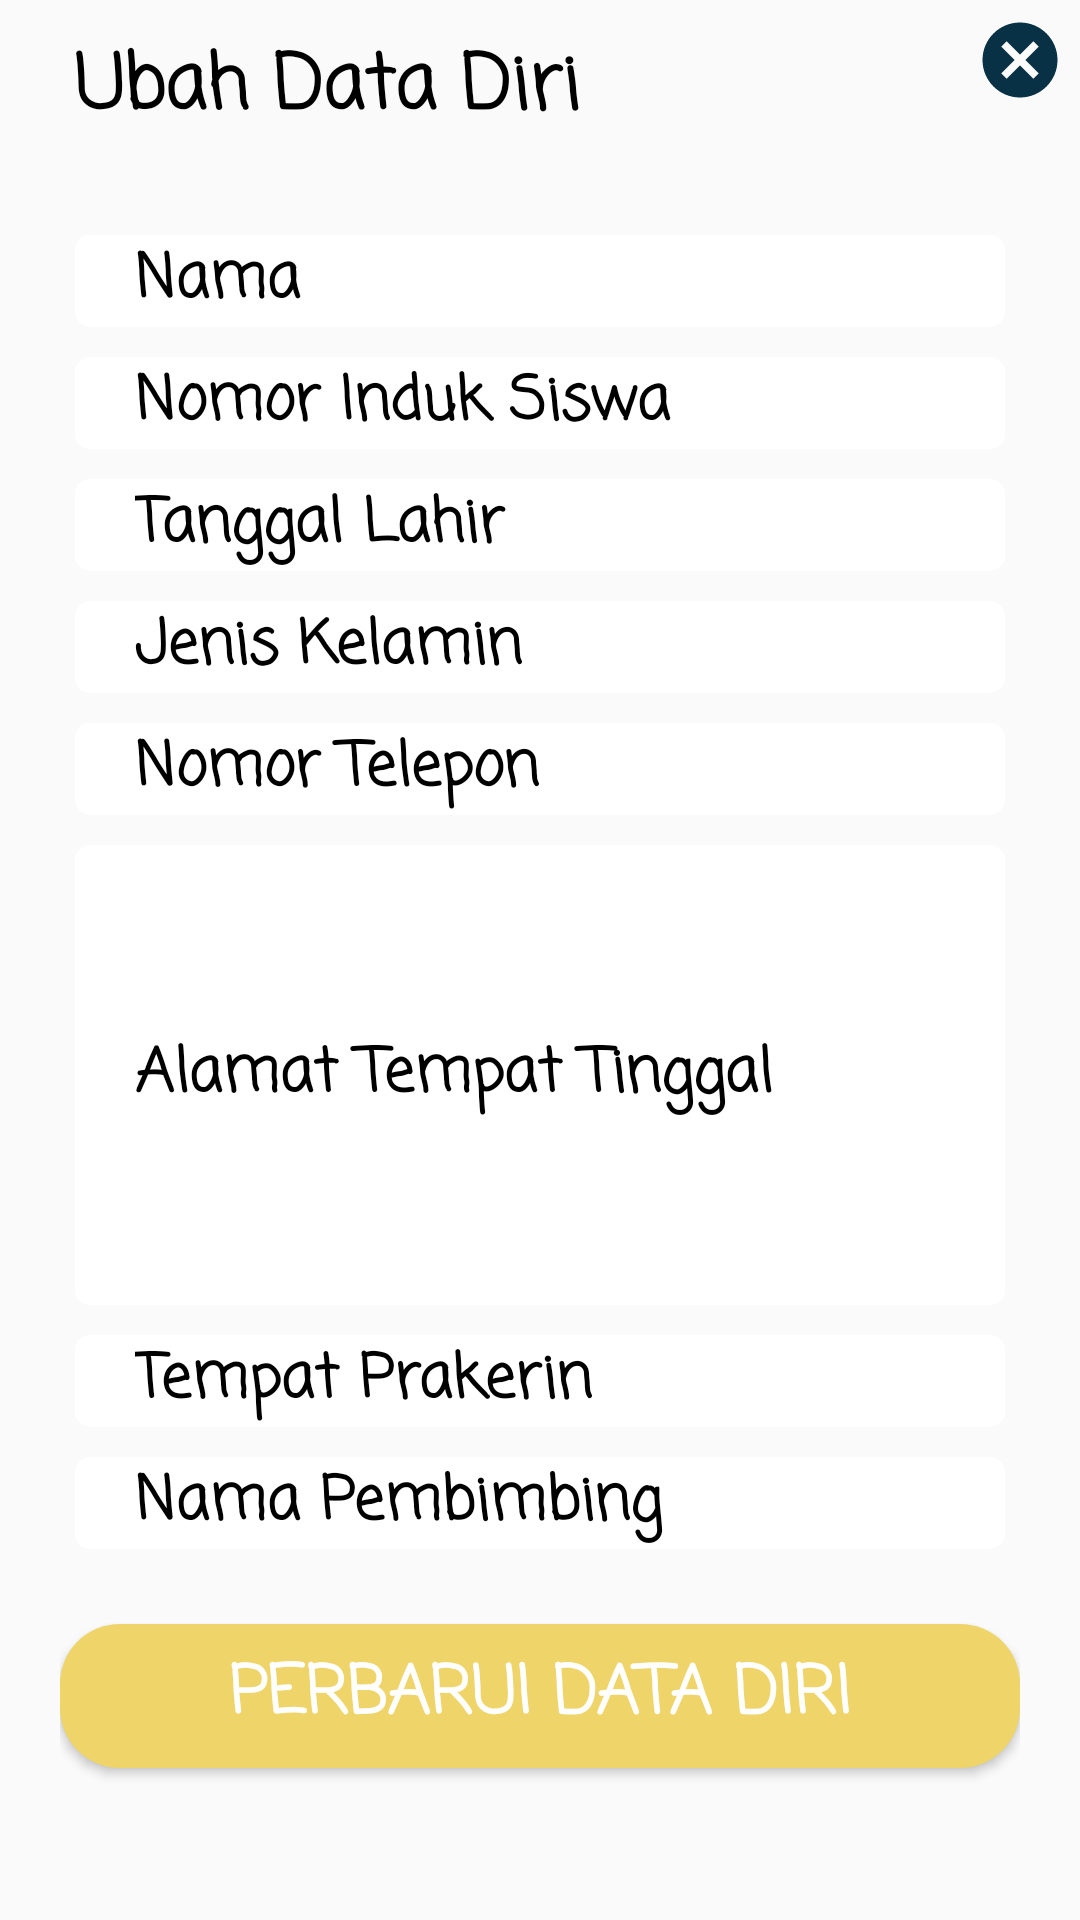

Screen size 1080x1920. Icon name, then its box in pixels as [left=x1, top=y1, right=x2, bottom=y2]:
exit: [left=982, top=22, right=1058, bottom=98]
